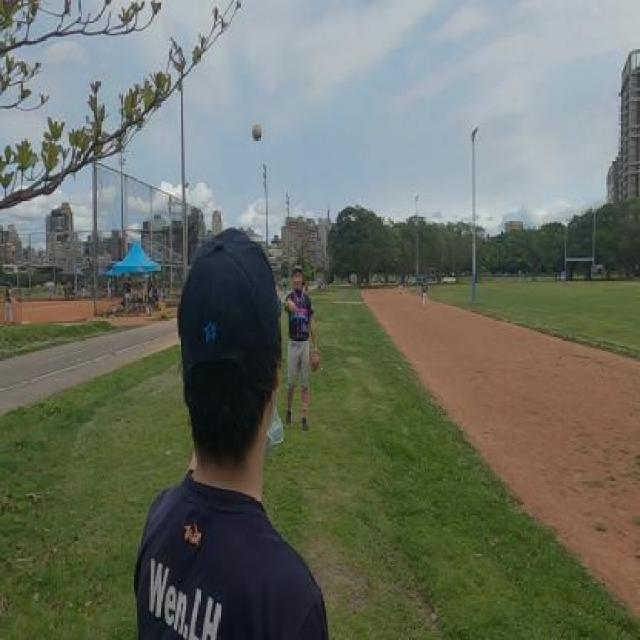baseball: (252, 122, 262, 141)
